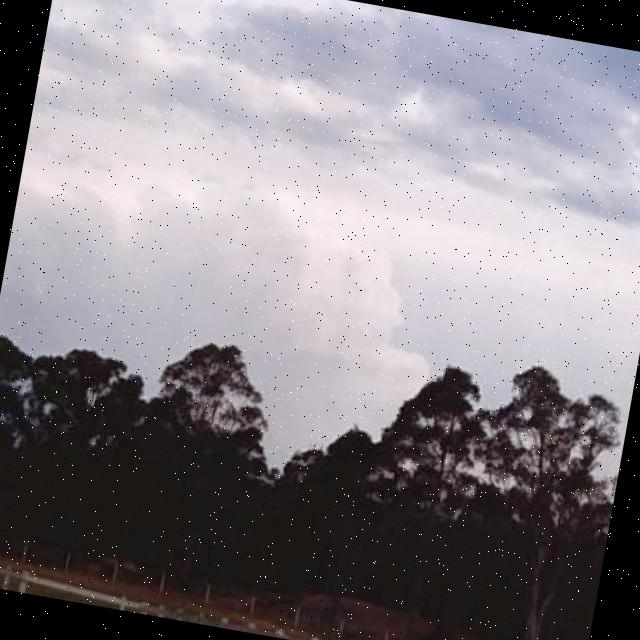Cs: (8, 1, 640, 363)
